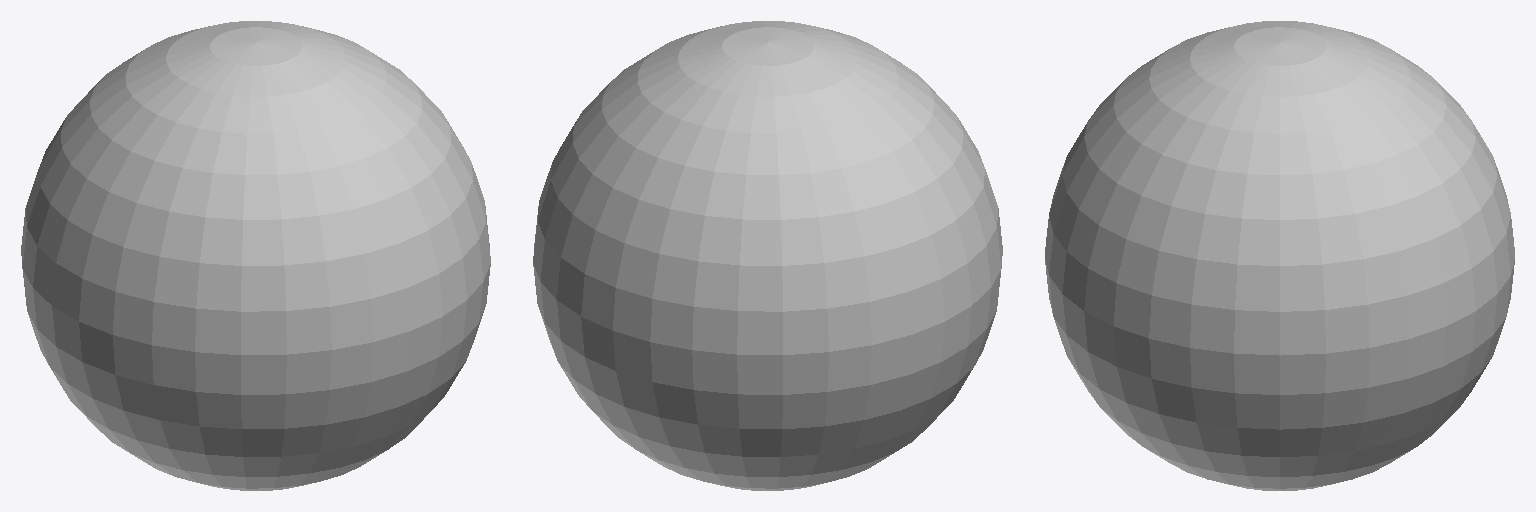
Rendered from cornell3_sphere2_11.obj.
3 renders of one model, left to right at view 1: azimuth 30°, elevation 25°; view 2: azimuth 150°, elevation 25°; view 3: azimuth 270°, elevation 25°, orthographic.
Visible parts, largest first — view 1: Sphere; view 2: Sphere; view 3: Sphere.
Part boxes in pixels (x1,y1,x2,y2): Sphere: (21, 21, 490, 490); Sphere: (533, 21, 1002, 490); Sphere: (1045, 21, 1514, 490).
Bounding box in the file's own units: 0.398 × 0.398 × 0.398.